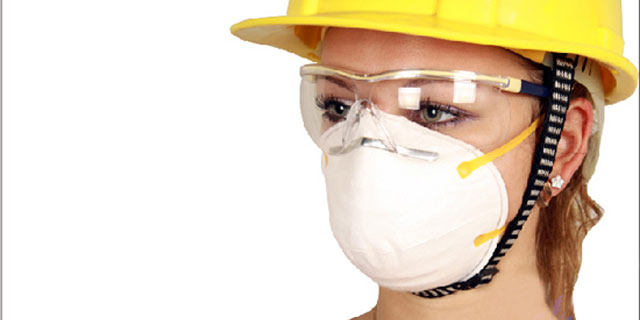face_mask: (309, 24, 544, 295)
